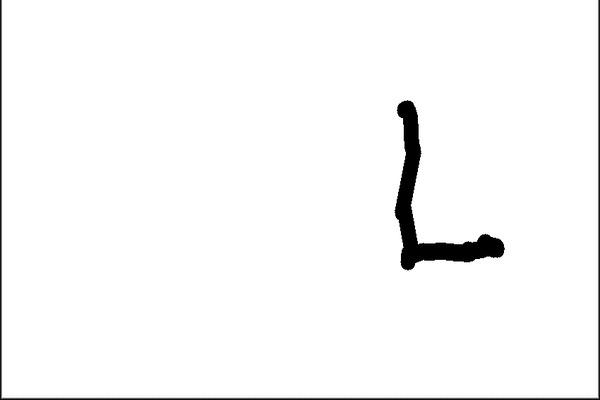L: (380, 92, 512, 276)
